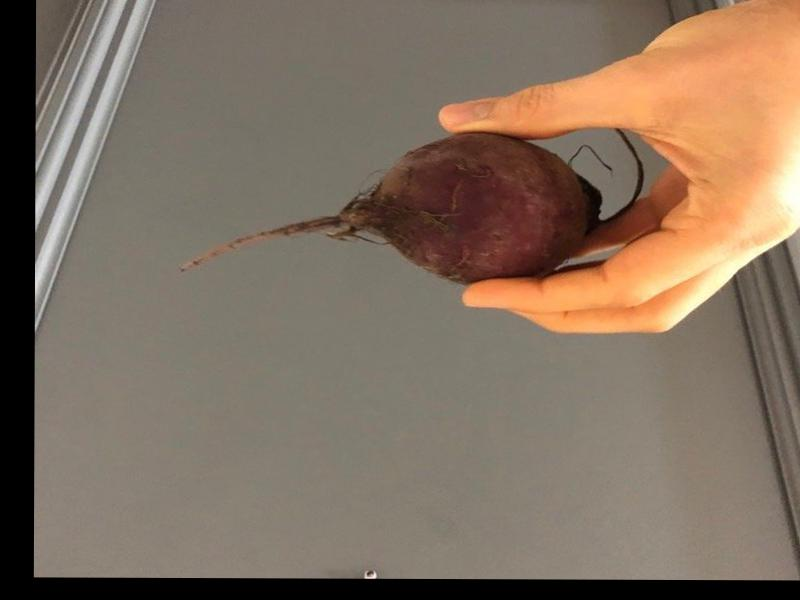Beet: (170, 128, 641, 281)
